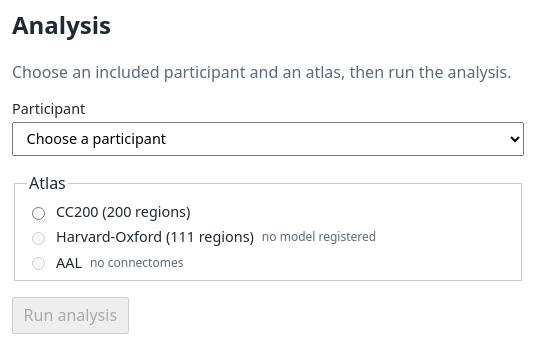
Scenario: Analysis page: atlases that cannot run (#199) › keeps Run analysis disabled until a usable atlas is chosen
Select "0050011 (PITT, autism)" in the dropdown: (268, 139) [12, 122, 524, 156]
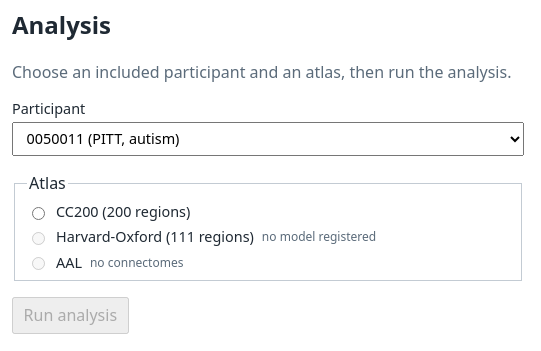
Expected: the button "Run analysis" is disabled, [12, 297, 129, 334]
Click the radio button labelled "CC200 (200 regions)": (38, 213) [32, 206, 45, 220]
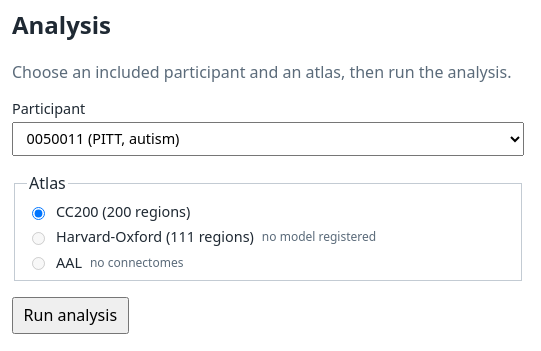
Expected: the button "Run analysis" is enabled, [12, 297, 129, 334]
